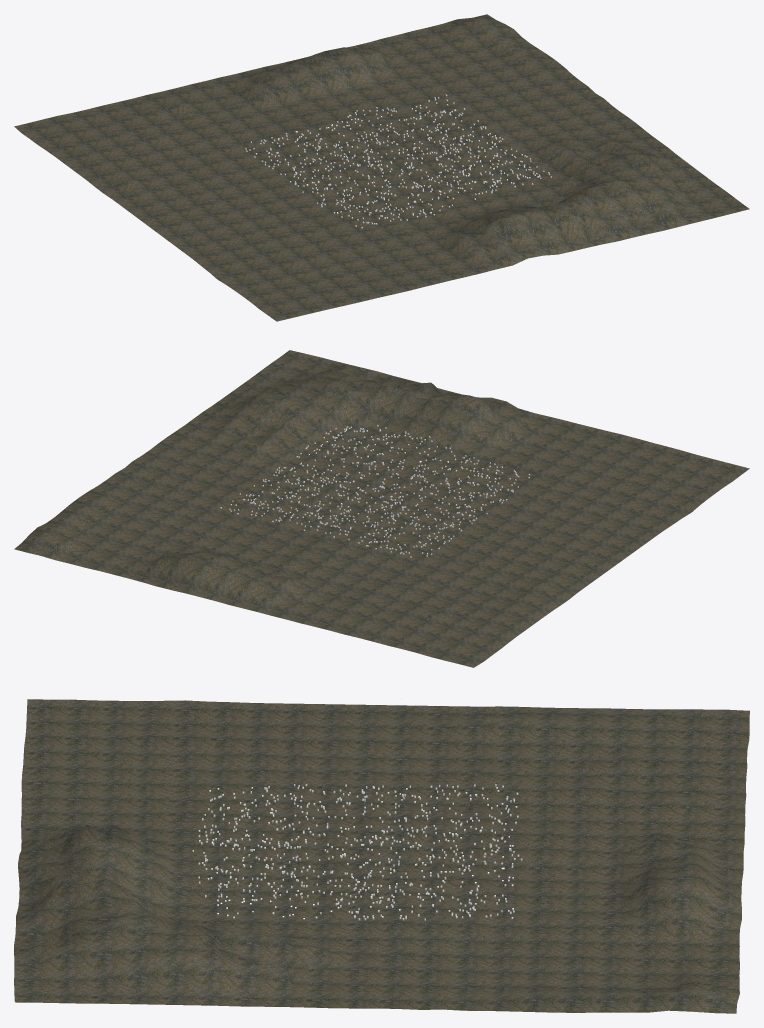
Rendered from newForest.glb.
The picture shows the model from 3 angles, top to bottom: view 1: azimuth 30°, elevation 25°; view 2: azimuth 150°, elevation 25°; view 3: azimuth 270°, elevation 25°; orthographic projection. The views are drawn at different scales.
Parts seen in each view (by area): view 1: Object_2; view 2: Object_2; view 3: Object_2.
Part boxes in pixels (x1,y1,x2,y2): Object_2: (14,14,749,321); Object_2: (14,350,749,667); Object_2: (14,699,749,1013).
Size of the model in its own units: 1078 by 106 by 1075.
Materials: 3 (1 with a texture image).
